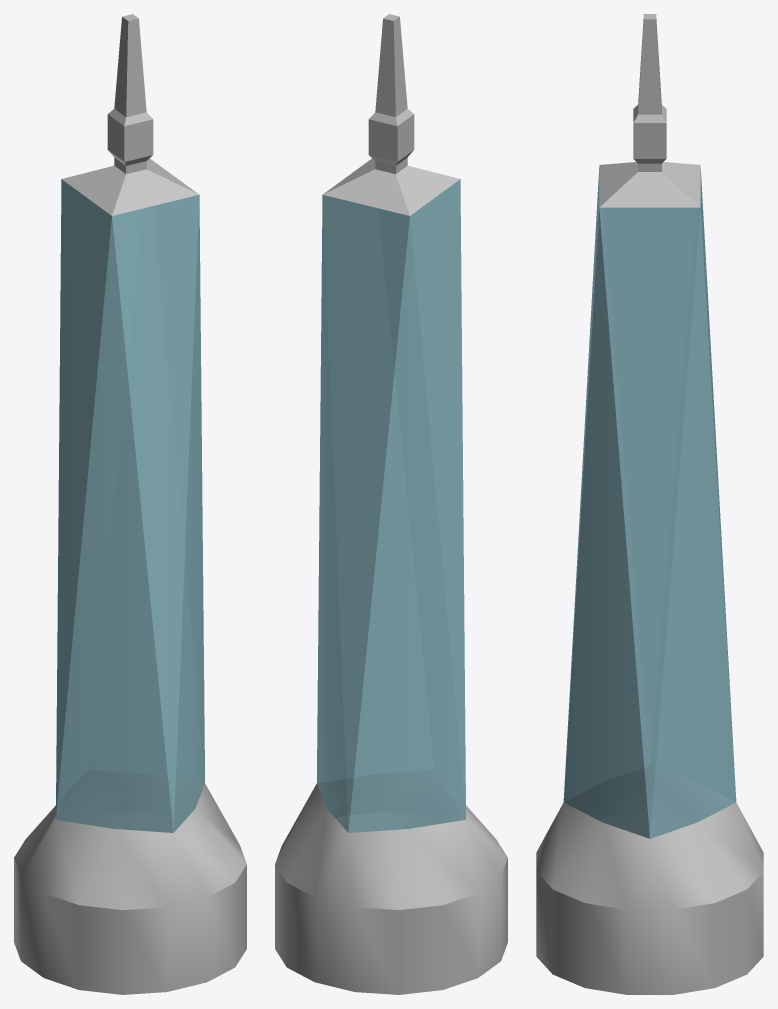
The model's file is tall building.fbx.
The picture shows the model from 3 angles, left to right: view 1: azimuth 30°, elevation 25°; view 2: azimuth 150°, elevation 25°; view 3: azimuth 270°, elevation 25°; orthographic projection.
Parts seen in each view (by area): view 1: Cube.003; view 2: Cube.003; view 3: Cube.003.
Part boxes in pixels (box(x1,y1,x2,y2)): Cube.003: box(14, 14, 246, 994); Cube.003: box(275, 14, 507, 994); Cube.003: box(536, 14, 763, 994).
Bounding box in the file's own units: 413 × 1866 × 413.
